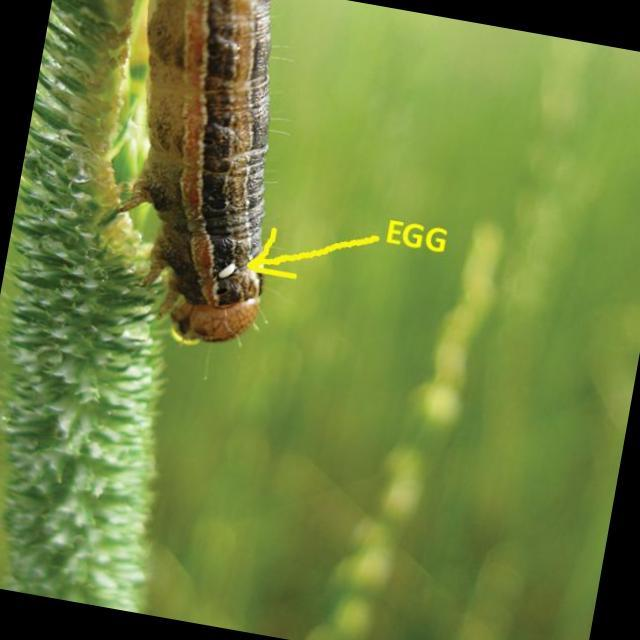Plaga: (72, 1, 337, 371)
